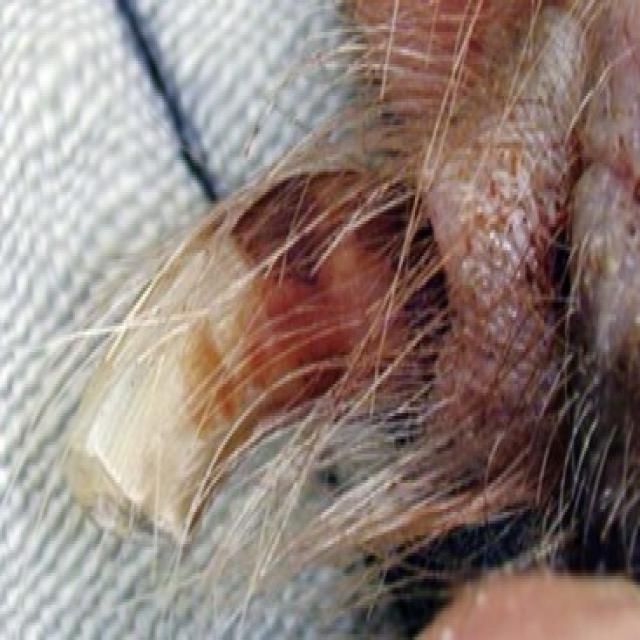fungal infection: (241, 188, 437, 384), (449, 113, 557, 445), (563, 140, 640, 366), (518, 34, 588, 189)
